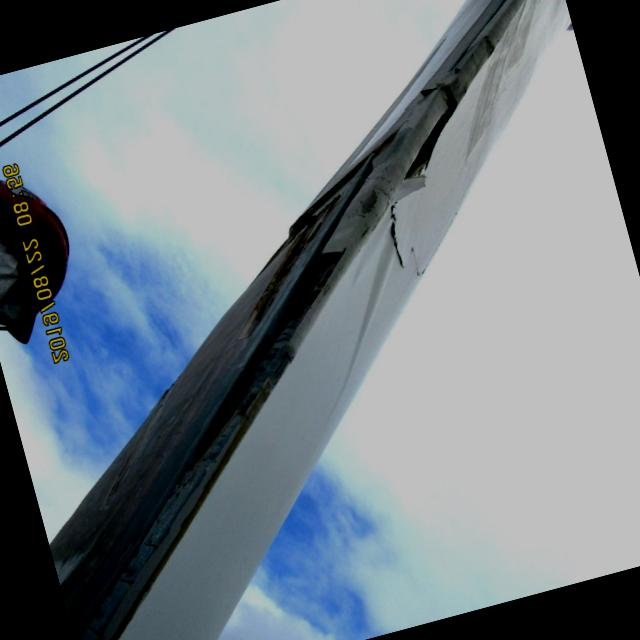crack: (157, 65, 540, 406)
